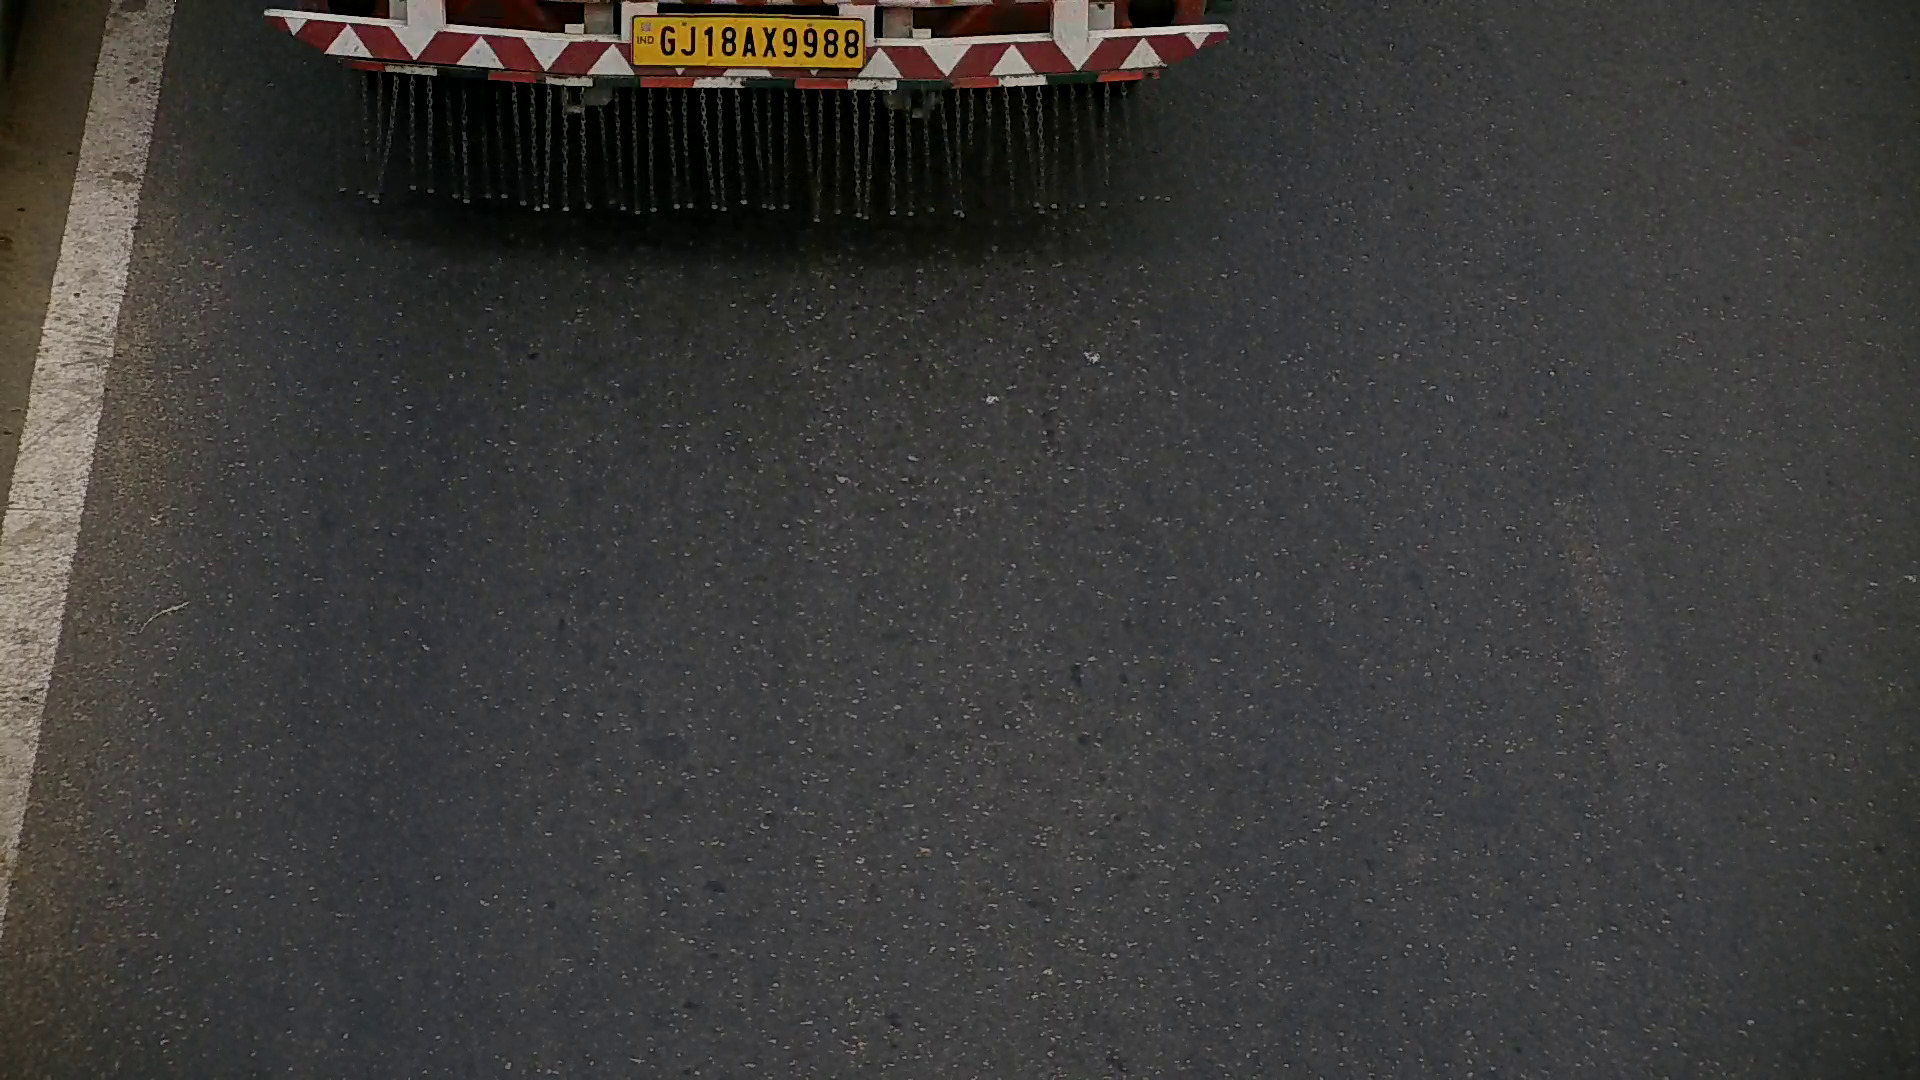numberplate: (624, 10, 865, 61)
